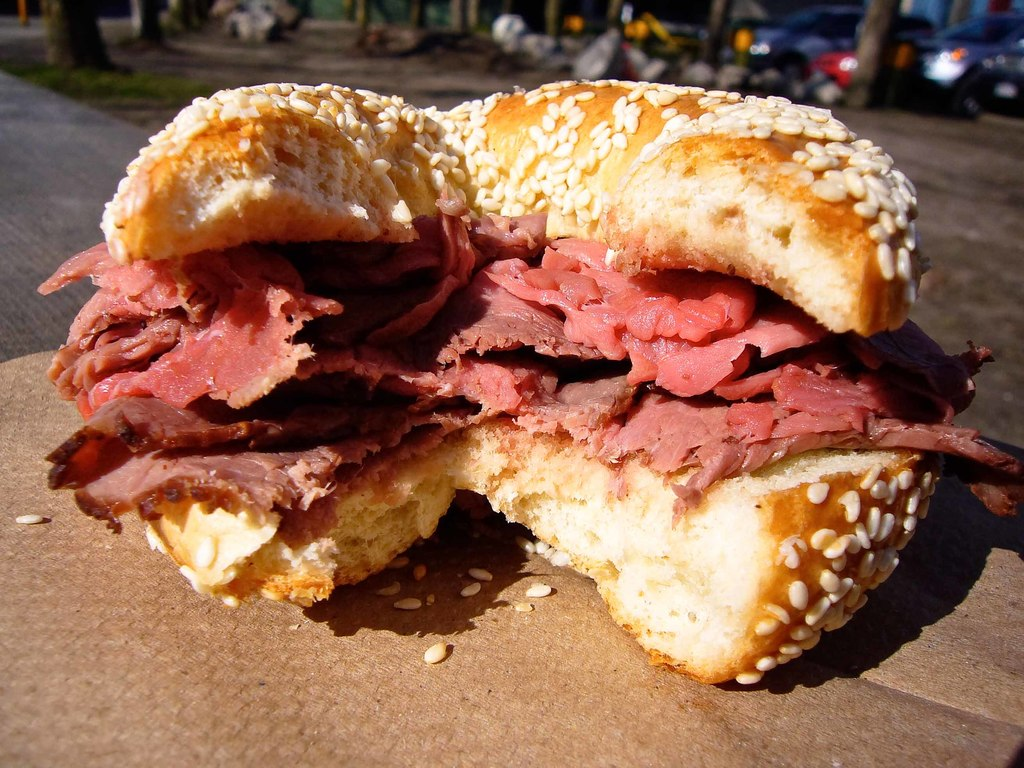Hamburger: (37, 76, 1023, 693)
